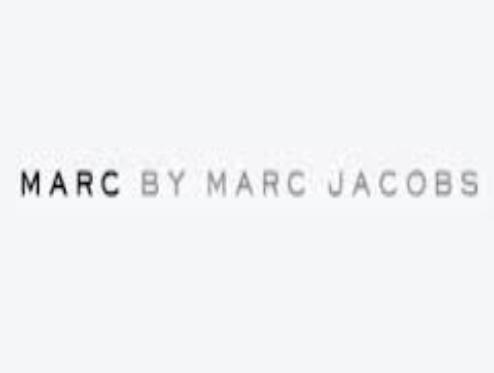MARC-JACOBS: (1, 148, 493, 241)
